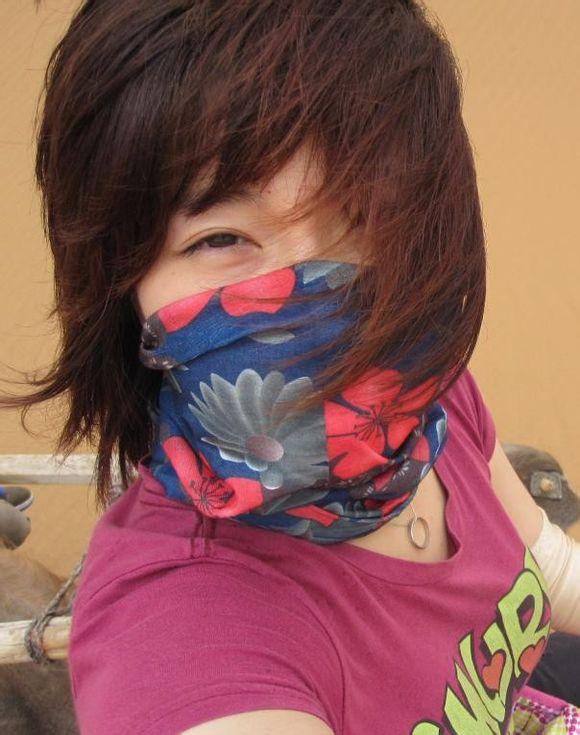OK: (151, 165, 450, 465)
